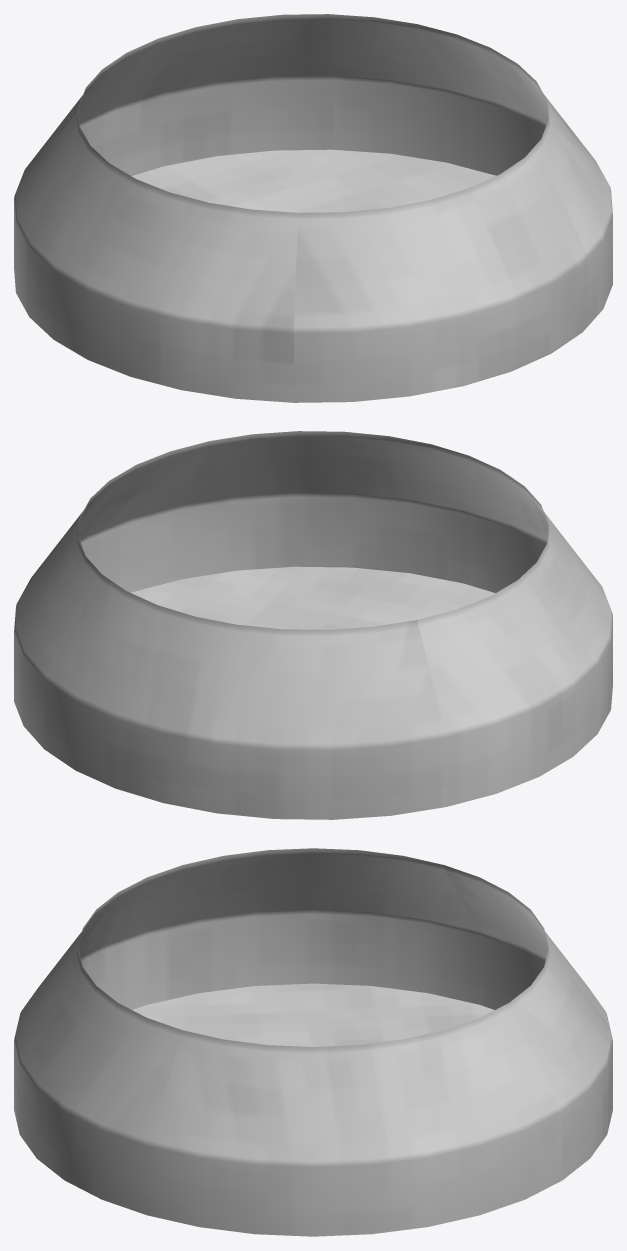
The model's file is PillarBotton.fbx.
The picture shows the model from 3 angles, top to bottom: view 1: azimuth 30°, elevation 25°; view 2: azimuth 150°, elevation 25°; view 3: azimuth 270°, elevation 25°; orthographic projection.
Visible parts, largest first — view 1: PillarButton; view 2: PillarButton; view 3: PillarButton.
Part boxes in pixels (x1,y1,x2,y2): PillarButton: (14,14,612,402); PillarButton: (14,431,612,819); PillarButton: (14,848,612,1236).
Size of what is drawn, in the model's own units: 50.94 by 15.25 by 50.94.
